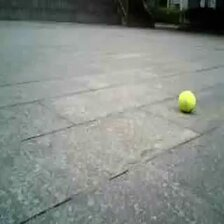tennis: (178, 91, 195, 110)
